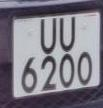0: (75, 48, 94, 90), (58, 50, 77, 91)
2: (40, 52, 60, 94)
6: (19, 53, 42, 97)
U: (38, 15, 59, 57), (58, 14, 78, 55)
